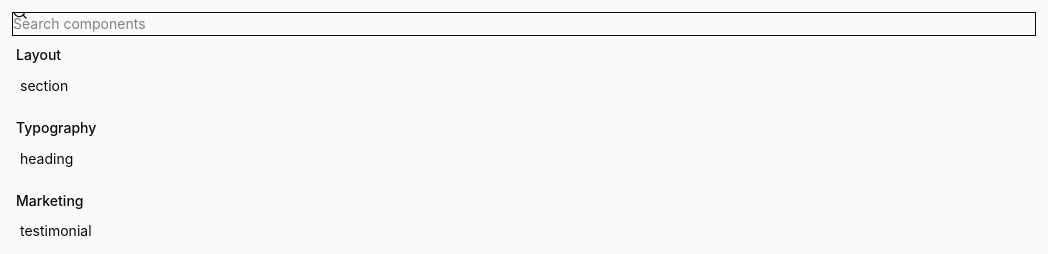
Test case: searching › narrows to what matches, and drops the empty groups
Type "head" into the search field labelled "Search components" at (524, 24), box left=12, top=12, right=1036, bottom=36
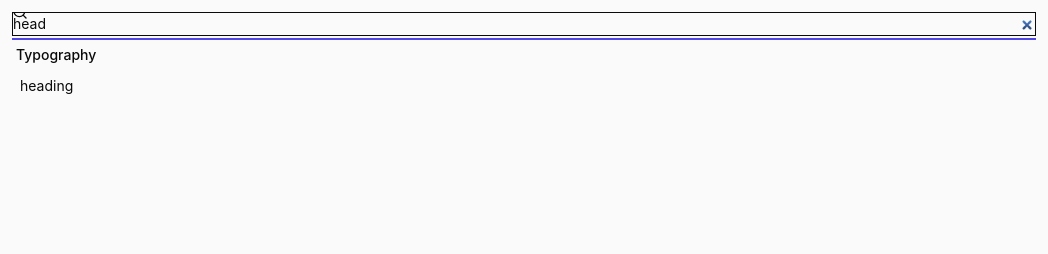
Expected: the button "heading" is shown, left=12, top=71, right=1036, bottom=101
Expected: the heading "Marketing" is gone
